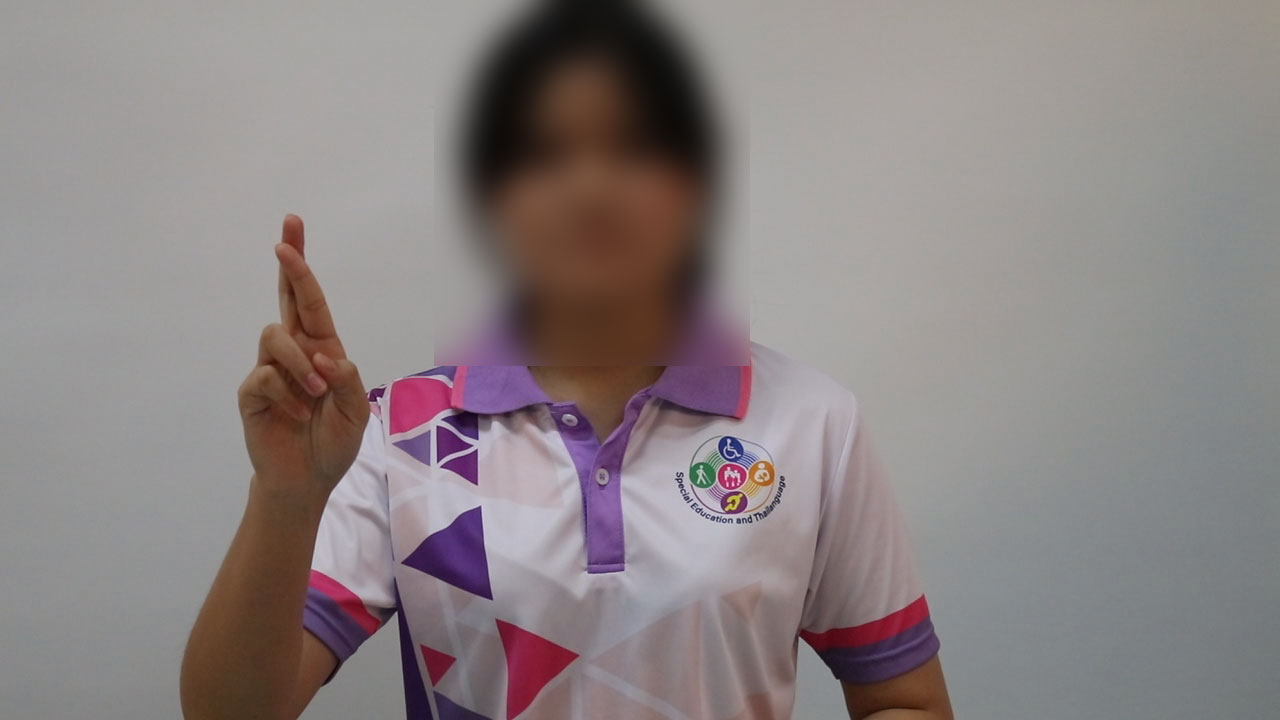rao: (213, 203, 380, 498)
